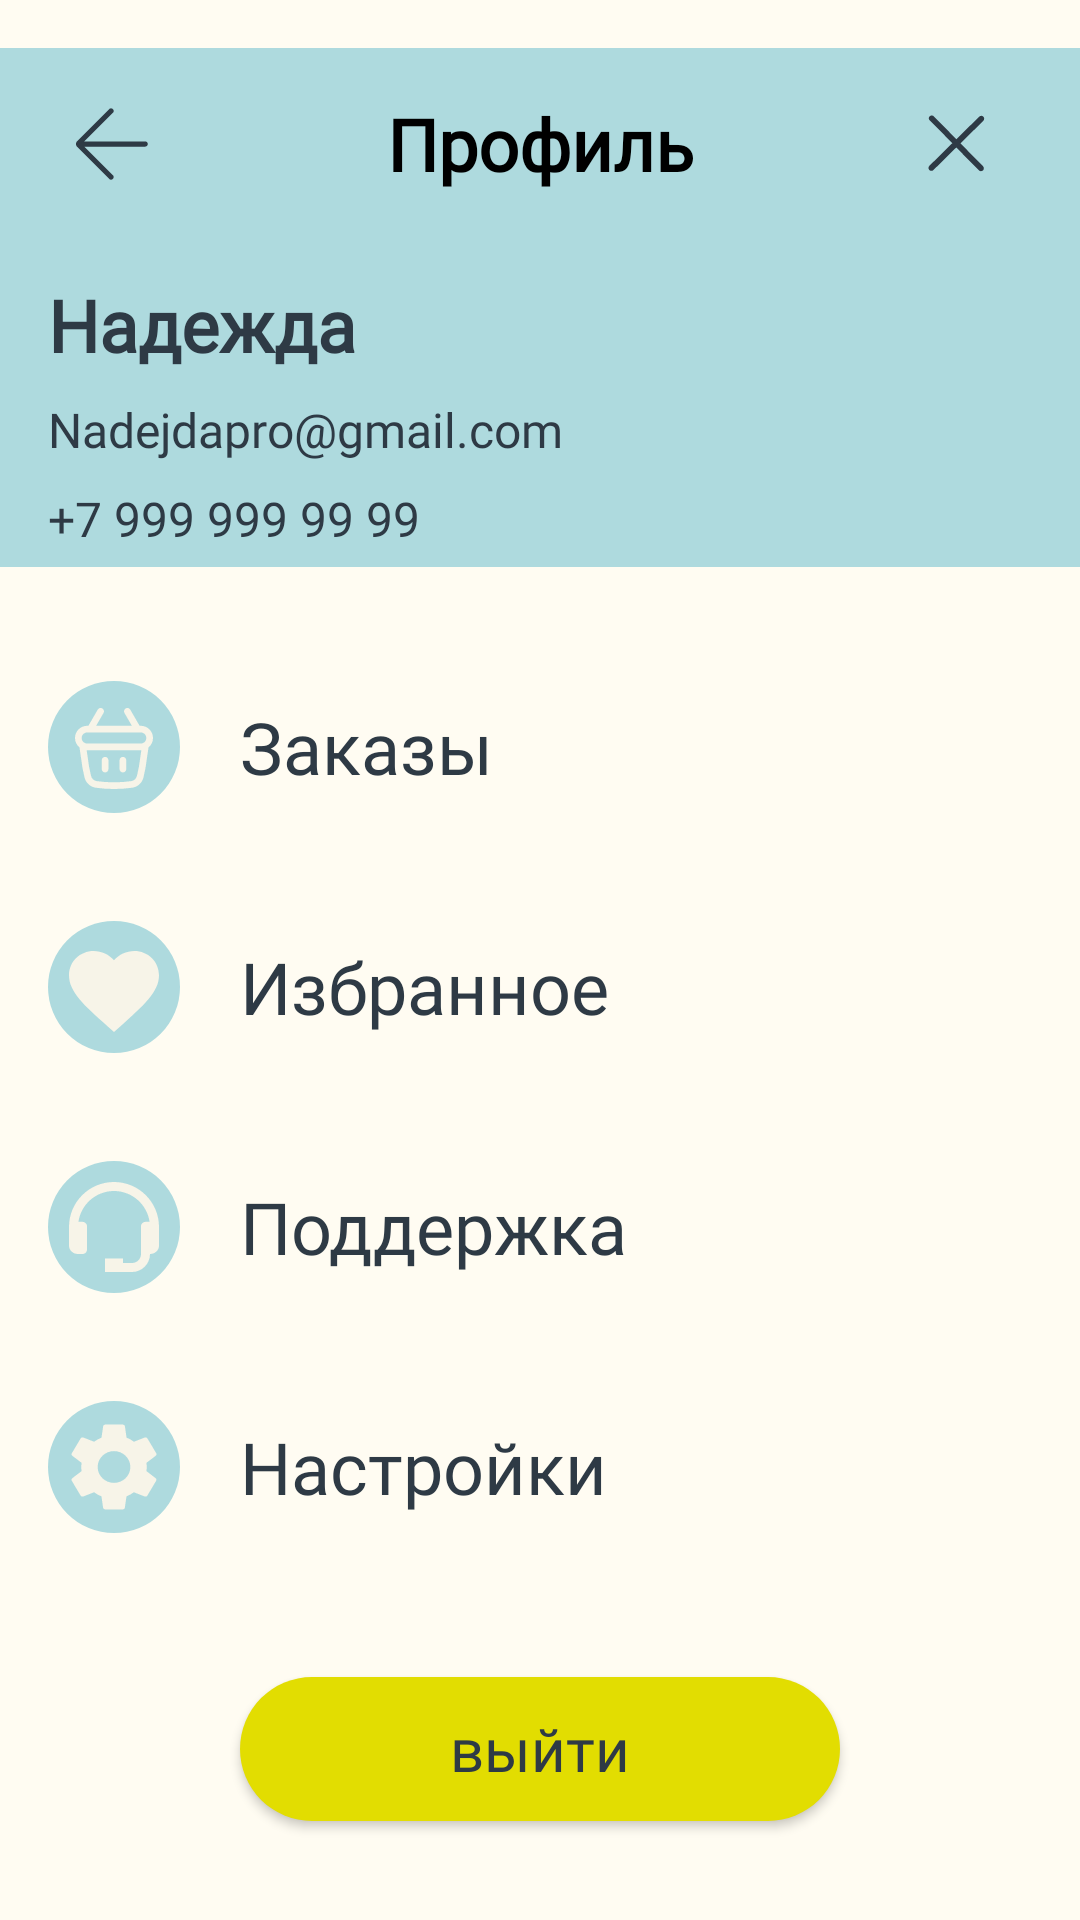

Locate icon controls on the screen. Image size 1080w x 1920h, boxes as (x1, y1, x2, y2).
favourites: (48, 921, 180, 1053)
orders: (48, 681, 180, 813)
settings: (48, 1401, 180, 1533)
support: (48, 1161, 180, 1293)
